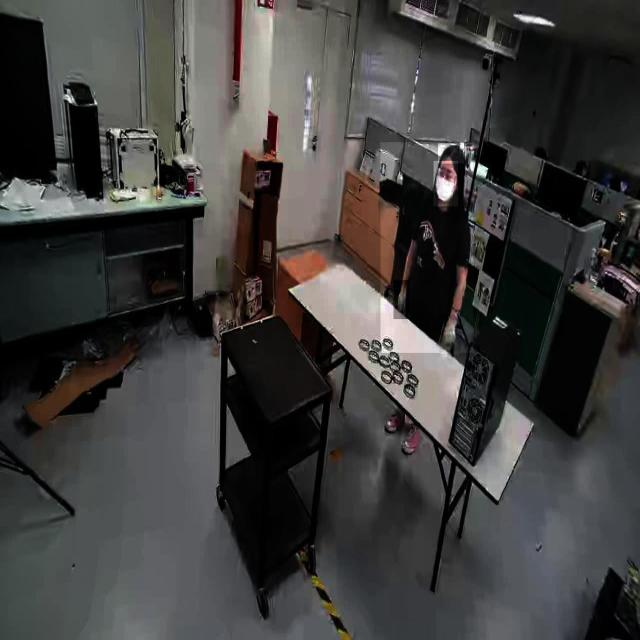face_mask: (434, 161, 458, 206)
hand_glove: (439, 314, 462, 354), (394, 280, 410, 320)
head_nohelmet: (438, 143, 464, 165)
person: (380, 142, 474, 354)
shoes: (381, 403, 410, 438), (400, 421, 424, 457)
